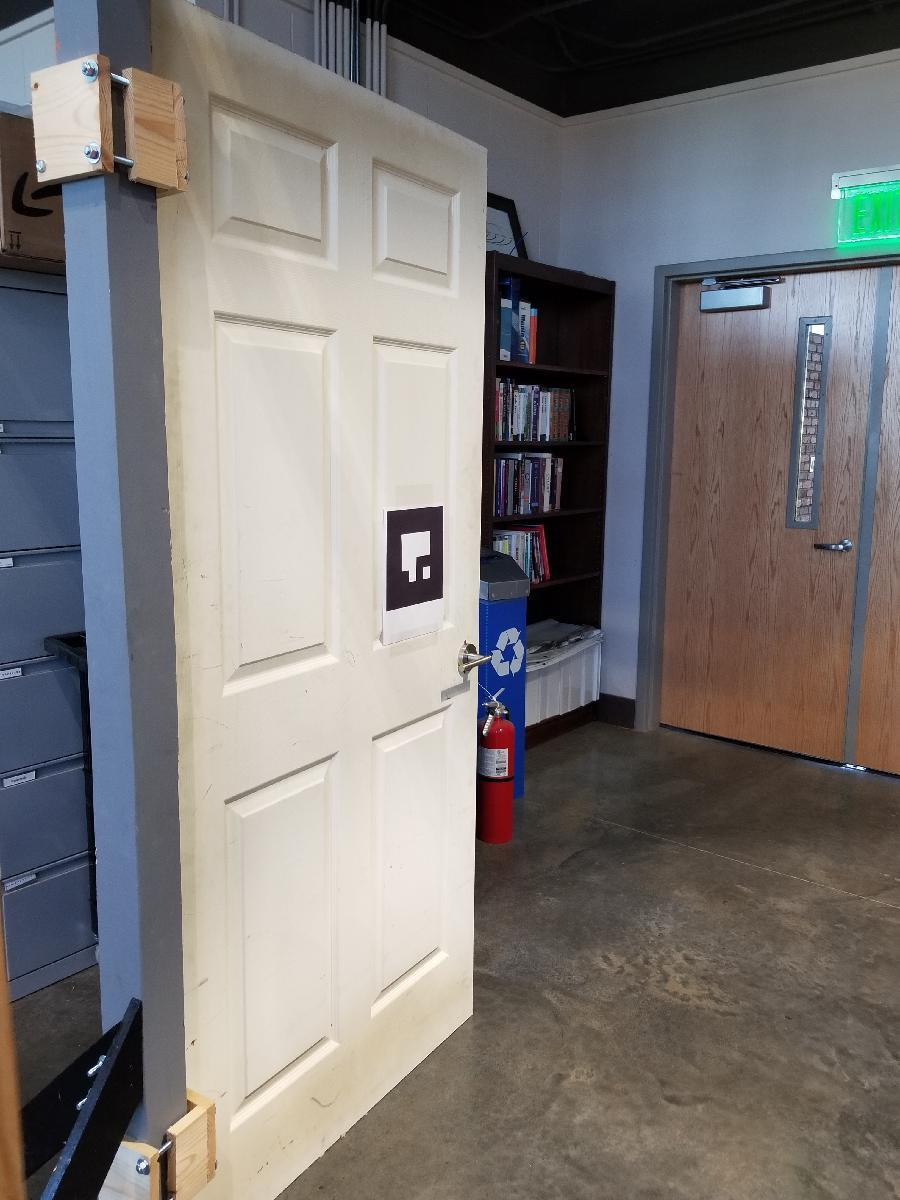door: (155, 61, 484, 1162), (674, 278, 868, 749)
handle: (808, 526, 858, 566), (454, 638, 492, 679)
